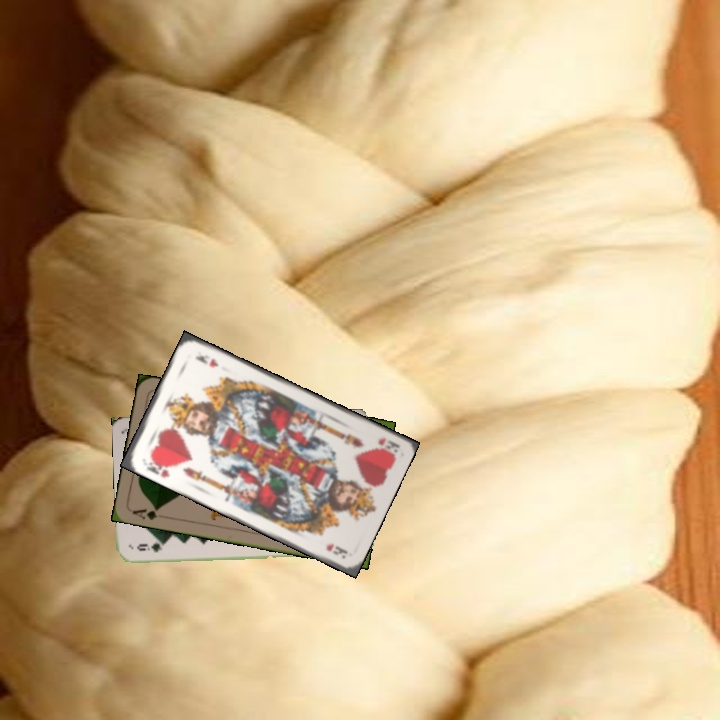G9: (133, 539, 168, 555)
GA: (128, 503, 162, 522)
HK: (142, 453, 175, 480), (374, 433, 401, 456)
